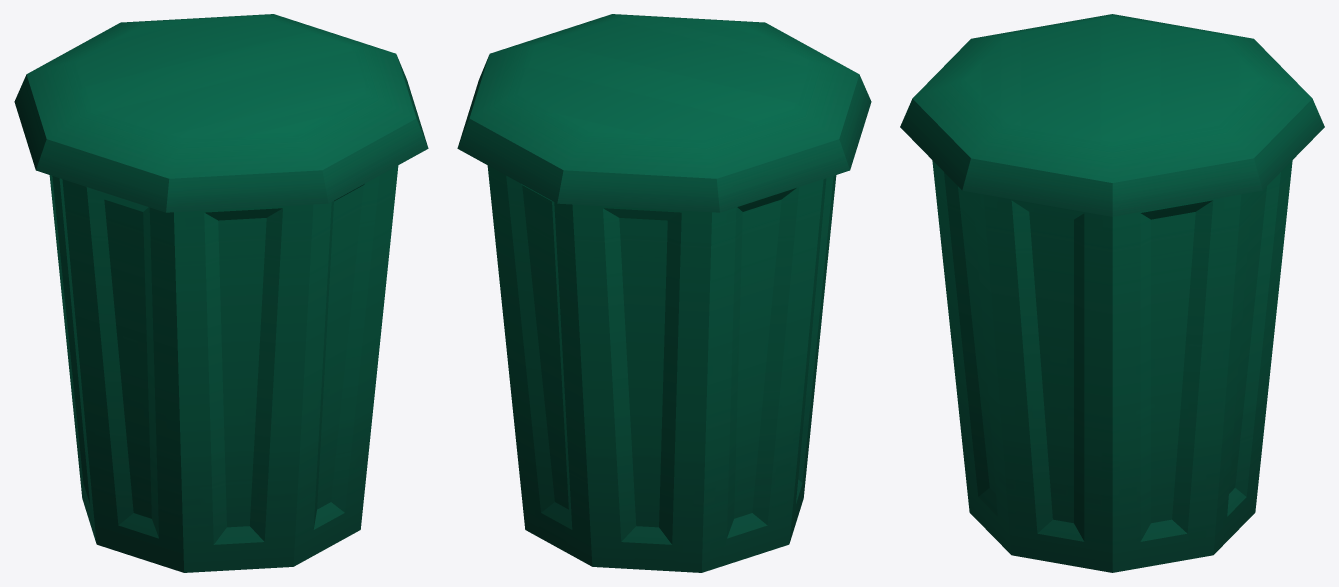
Rendered from trash.fbx.
The picture shows the model from 3 angles, left to right: view 1: azimuth 30°, elevation 25°; view 2: azimuth 150°, elevation 25°; view 3: azimuth 270°, elevation 25°; orthographic projection.
Parts seen in each view (by area): view 1: trash; view 2: trash; view 3: trash.
Part boxes in pixels (box(x1,y1,x2,y2)): trash: box(14, 14, 428, 572); trash: box(457, 14, 871, 572); trash: box(900, 14, 1324, 572).
Size of the model in its own units: 84.64 by 95.22 by 84.64.
